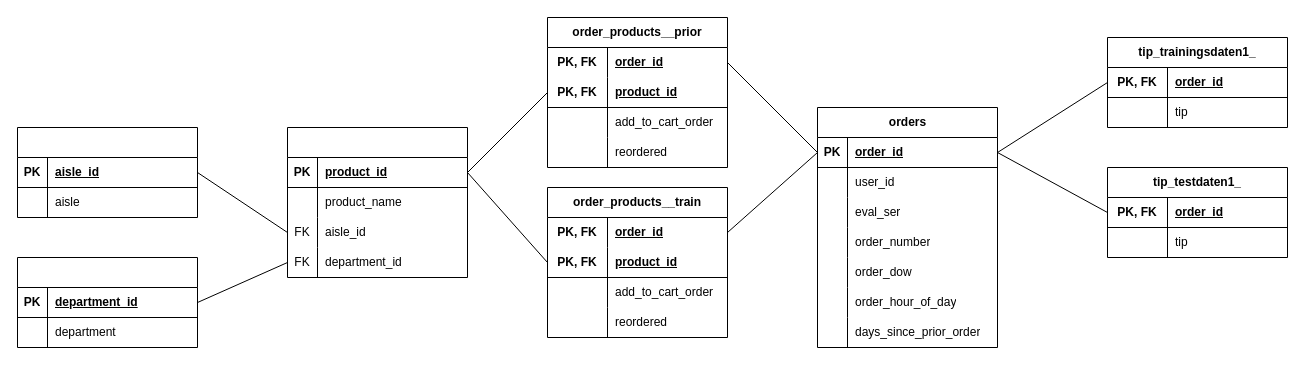
The diagram is 1305 pixels wide and 365 high, and some of its shapes have lost their labels. The shapes that lost their labels are listed below. From the top down, each one's box as (x1, y1, x2, y2) in pixels, then its label:
(16, 126, 198, 218): aisles
(286, 126, 468, 278): products
(16, 256, 198, 348): departments
